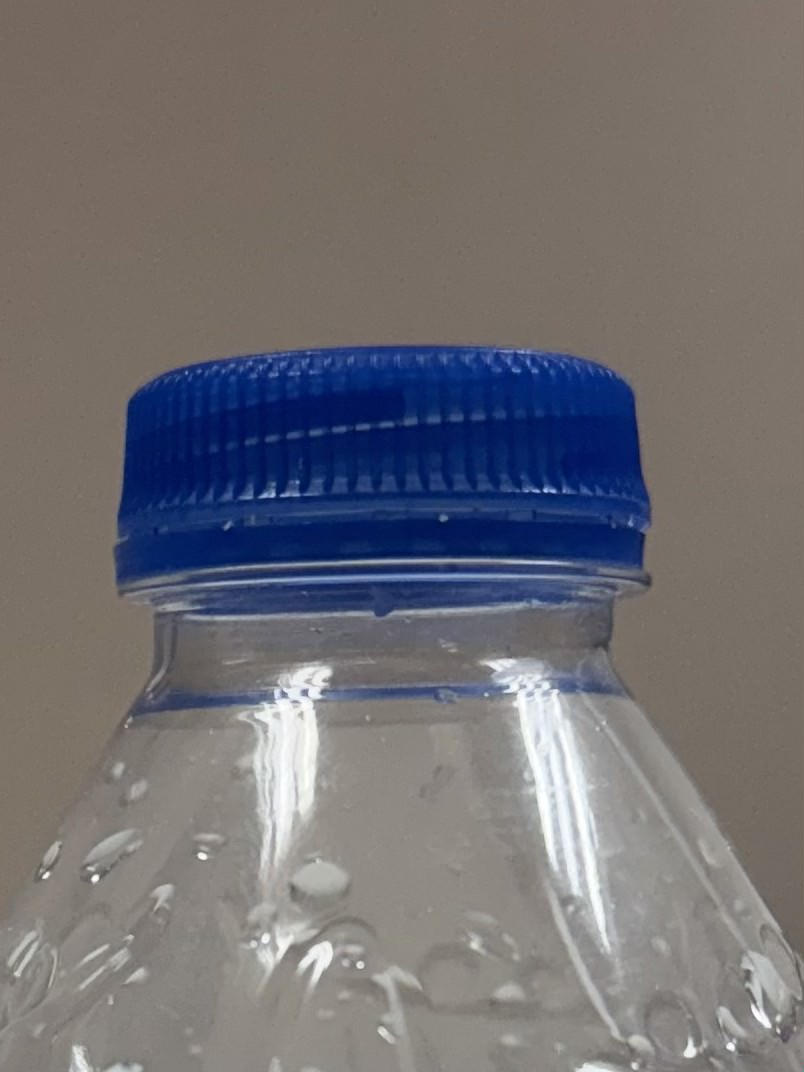closed_cap: (111, 341, 656, 607)
